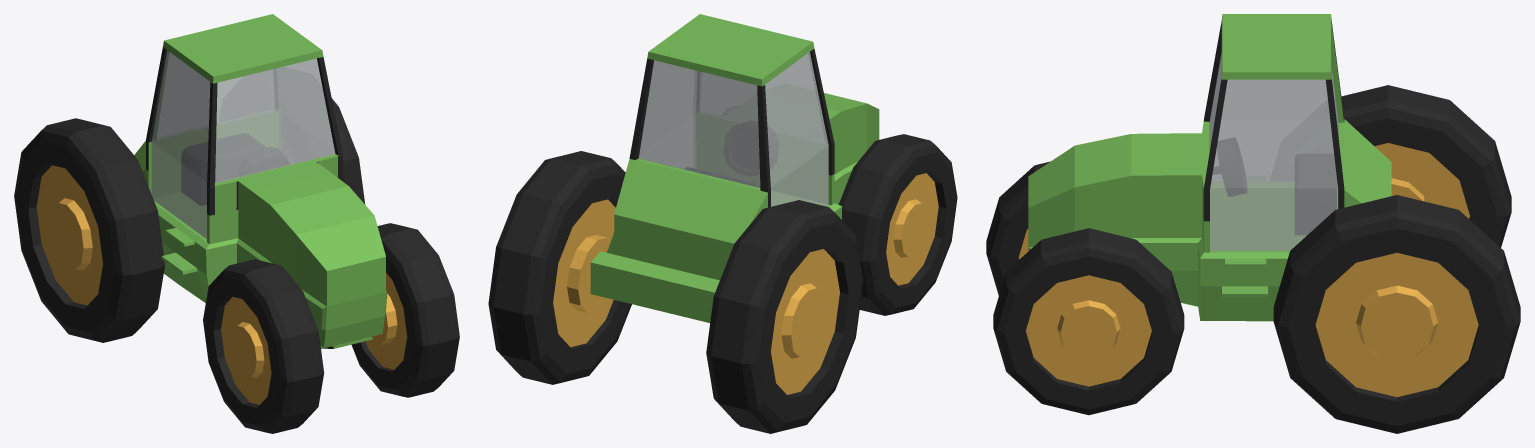
Rendered from O_Enviroment_Tractor_1.fbx.
The picture shows the model from 3 angles, left to right: view 1: azimuth 30°, elevation 25°; view 2: azimuth 150°, elevation 25°; view 3: azimuth 270°, elevation 25°; orthographic projection. The views are drawn at different scales.
Visible parts, largest first — view 1: pCube46; view 2: pCube46; view 3: pCube46.
Part boxes in pixels (box(x1,y1,x2,y2)): pCube46: box(14, 14, 459, 433); pCube46: box(488, 14, 957, 433); pCube46: box(986, 14, 1520, 433).
Size of the model in its own units: 4.31 by 4.87 by 7.18.
